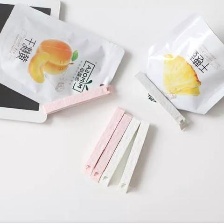snack: (0, 0, 131, 117), (139, 9, 224, 122)
